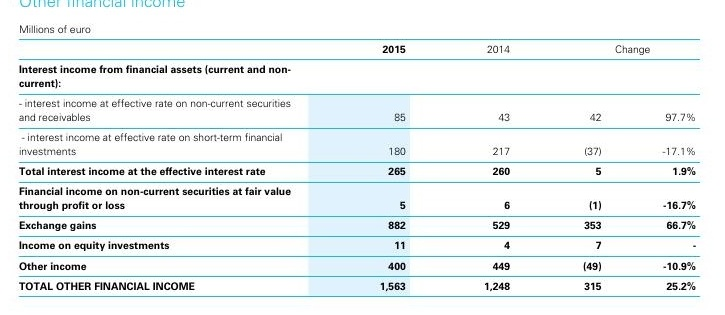table: (0, 0, 725, 315)
